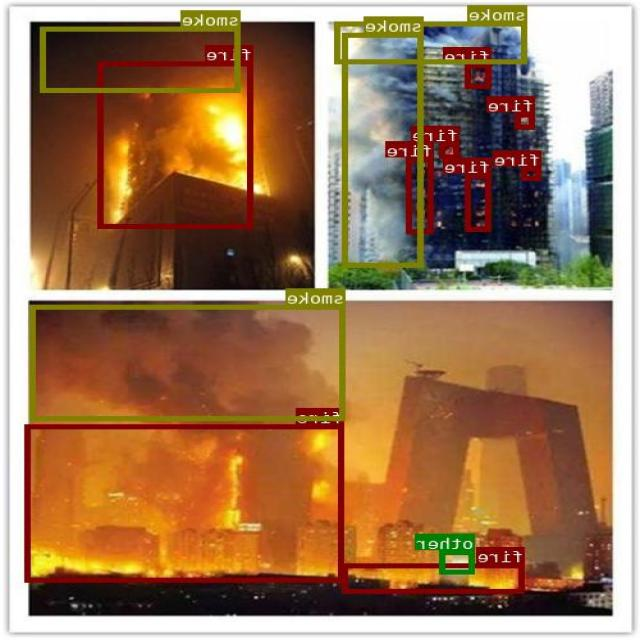fire: (26, 424, 345, 582), (100, 60, 254, 227), (344, 563, 526, 593), (408, 157, 435, 233), (466, 173, 492, 231), (467, 63, 492, 87), (440, 141, 460, 158), (516, 112, 536, 128), (523, 166, 542, 180)
other: (442, 550, 476, 574)
smoke: (32, 304, 346, 420), (343, 32, 425, 267), (42, 26, 241, 91), (336, 21, 528, 63)
